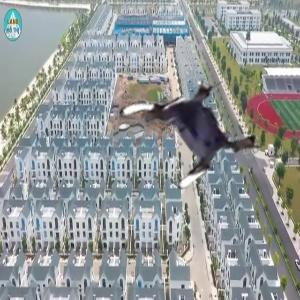drone: (128, 66, 258, 196)
